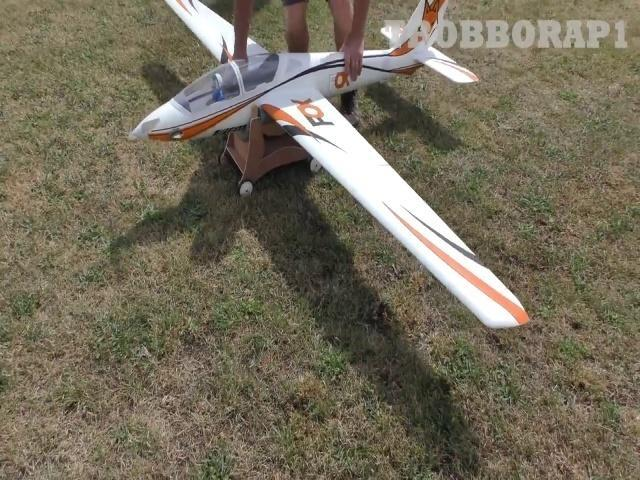Airplane: (128, 1, 530, 328)
